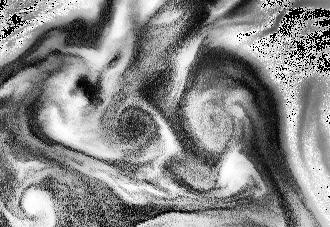CE: (168, 38, 293, 178), (112, 96, 173, 165)
